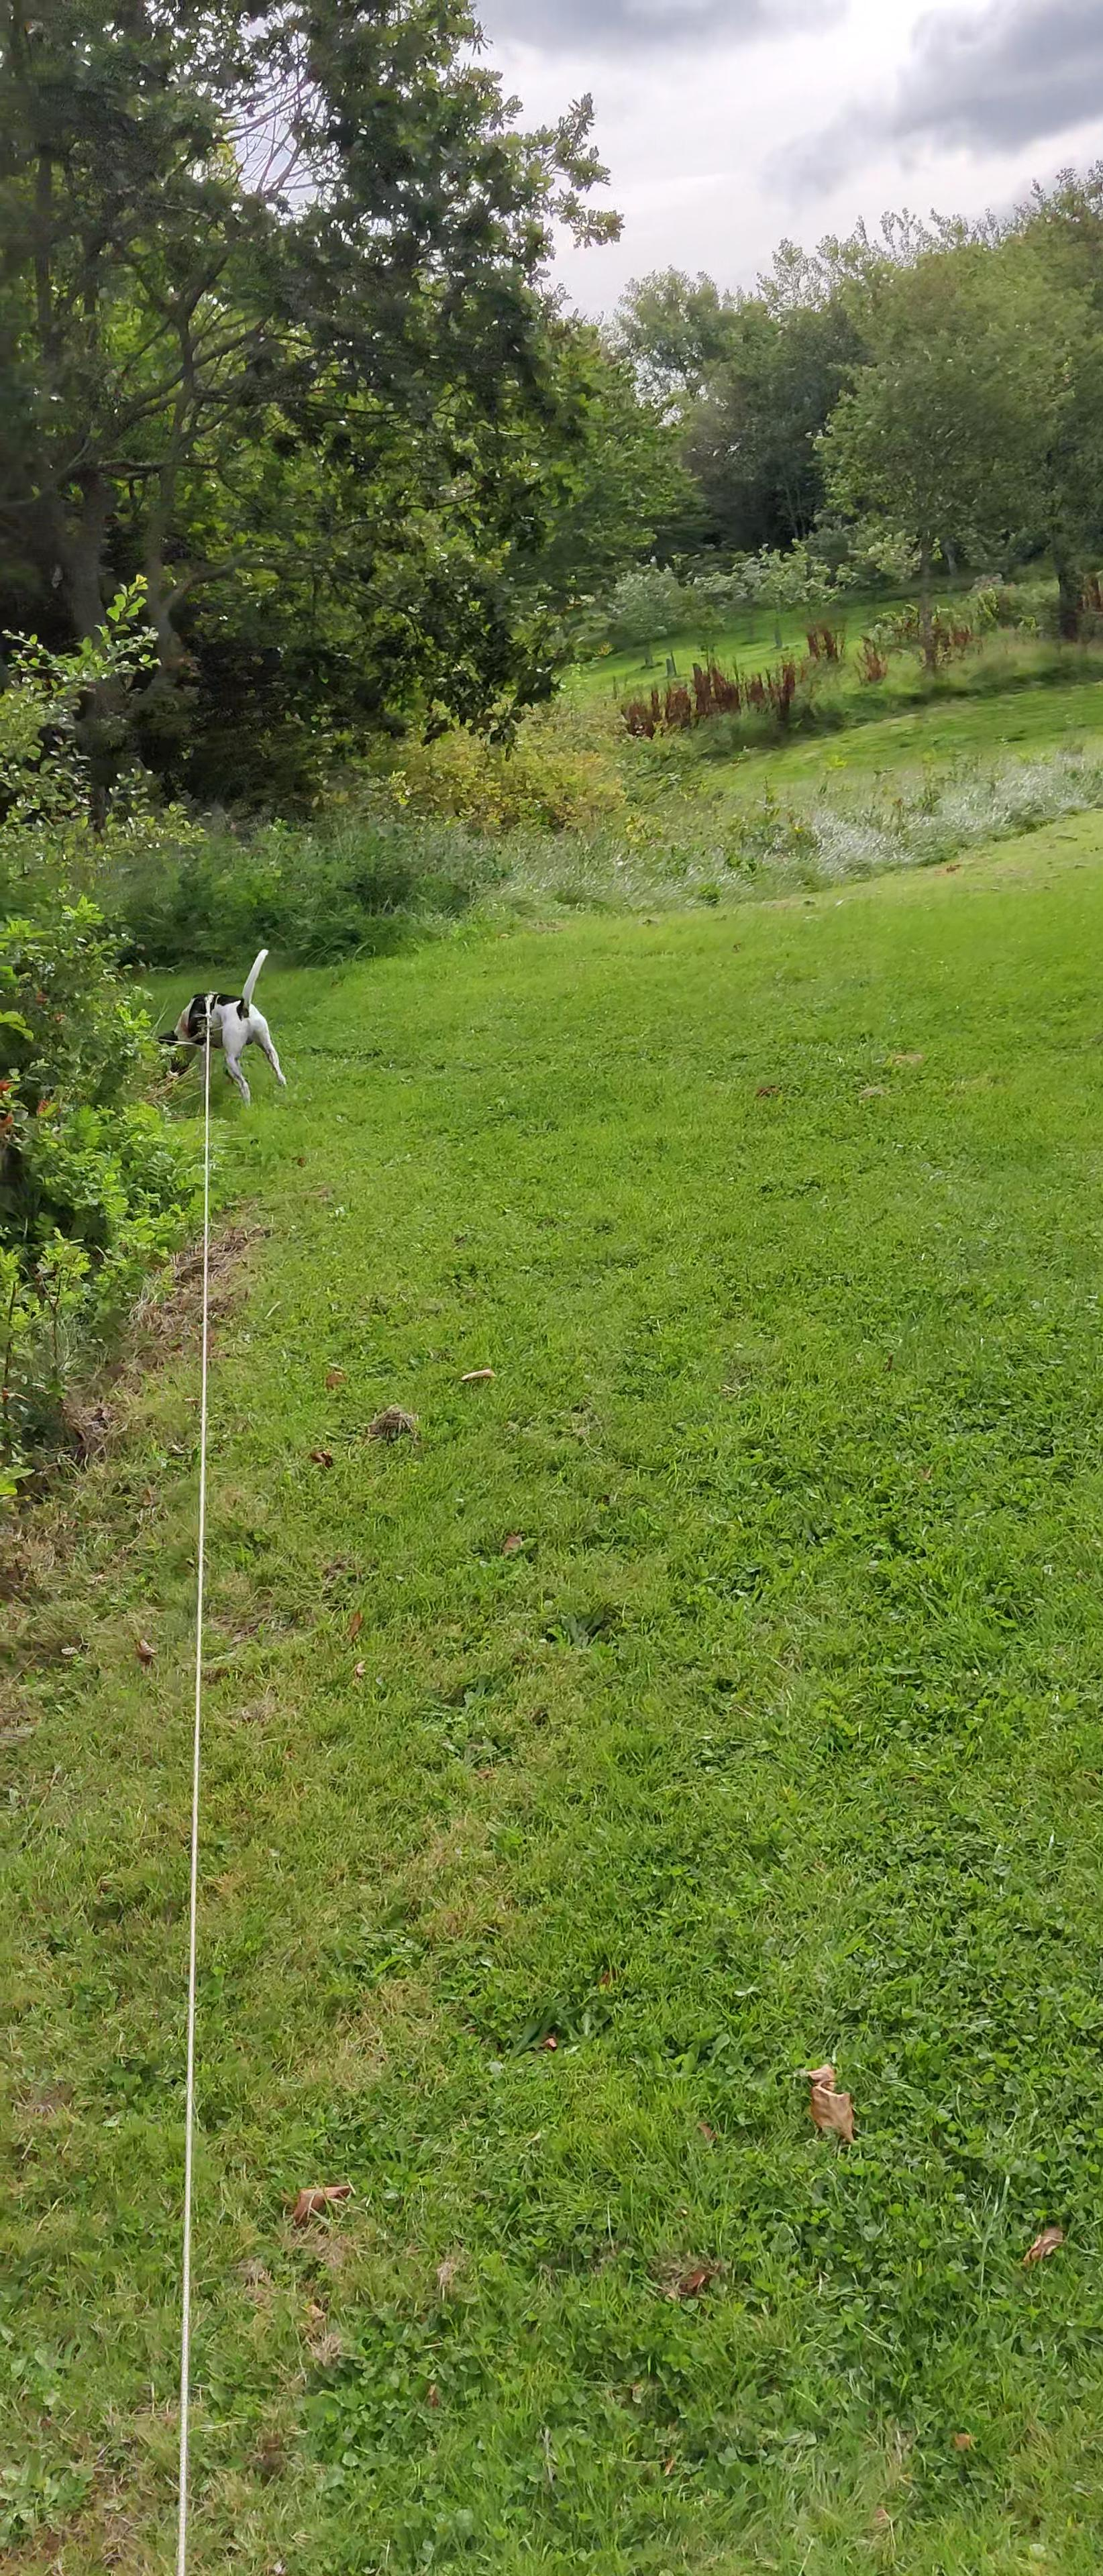Dog: (155, 948, 293, 1107)
